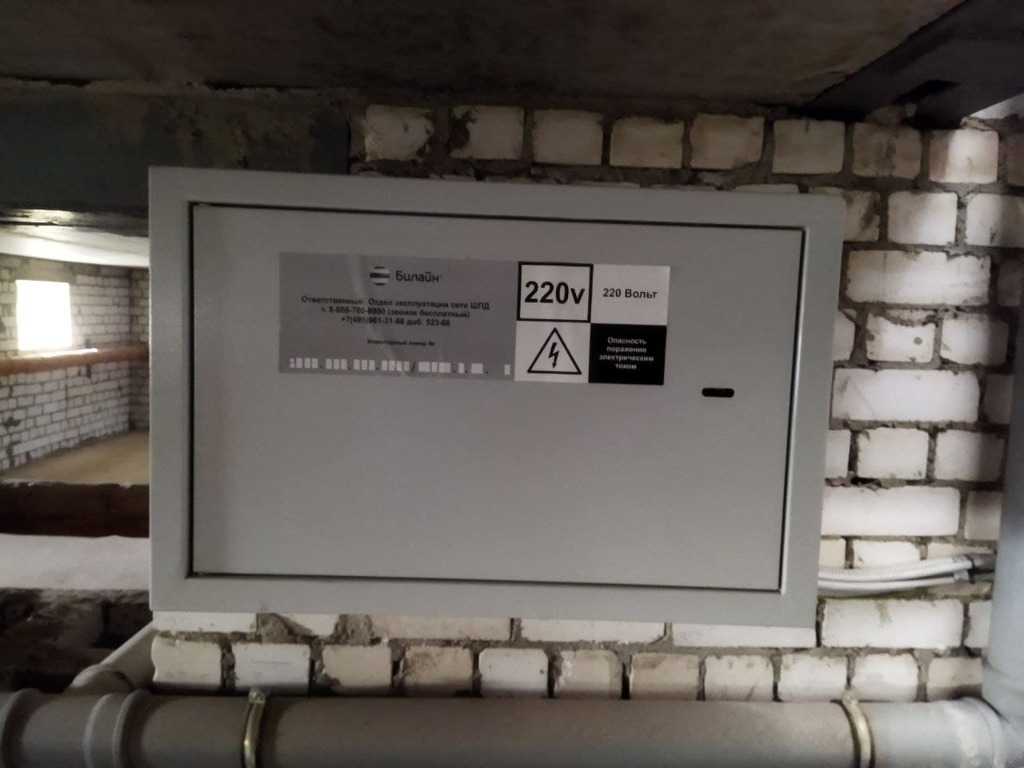shta-7m: (127, 145, 856, 644)
